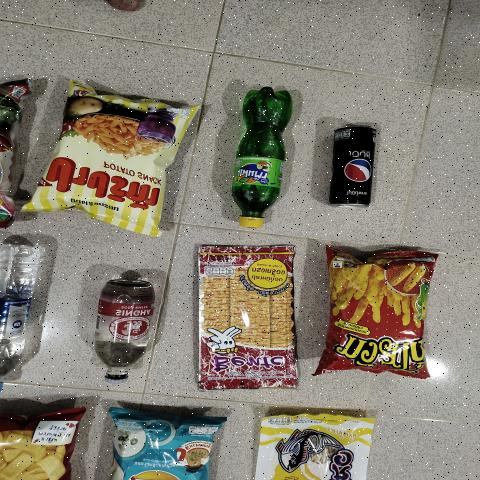bento_red: (196, 246, 291, 390)
fanta_green: (228, 83, 296, 227)
paprika: (34, 97, 202, 219)
pepsi_black: (329, 129, 376, 207)
singha_soda: (89, 274, 159, 384)
twisco: (323, 247, 430, 375)
